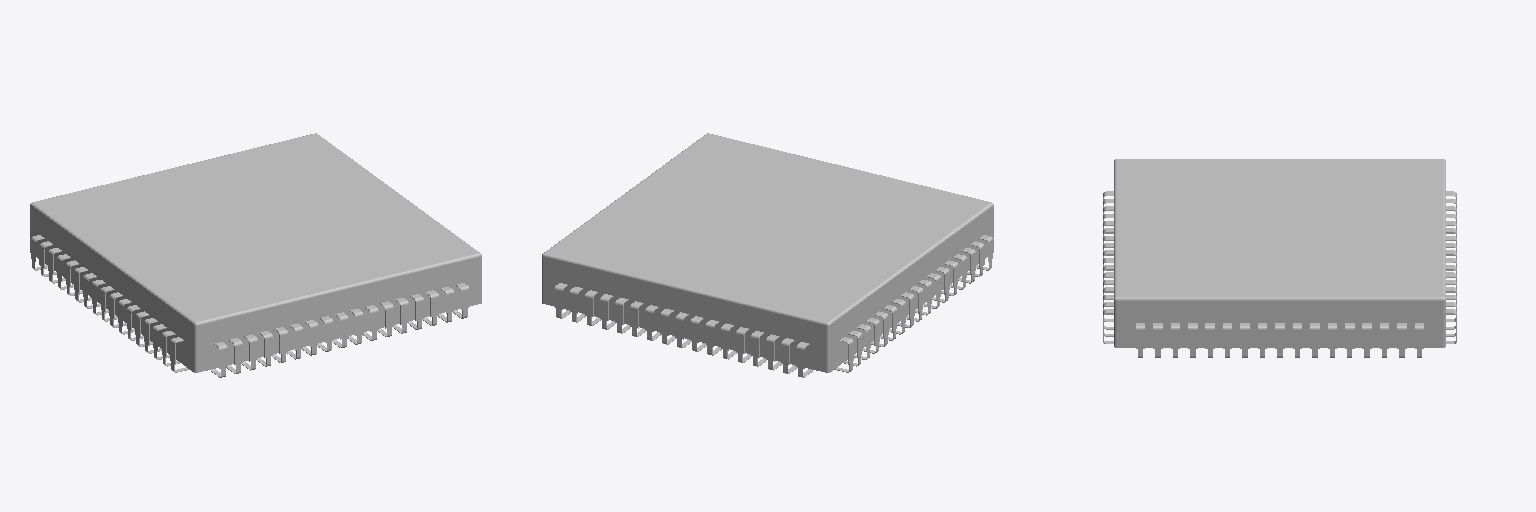
Rendered from bigflat.obj.
3 views of the same model, side by side, from view 1: azimuth 30°, elevation 25°; view 2: azimuth 150°, elevation 25°; view 3: azimuth 270°, elevation 25° (orthographic).
Parts seen in each view (by area): view 1: Object.1; view 2: Object.1; view 3: Object.1.
Part boxes in pixels (bbox=[...]): Object.1: bbox=[30, 133, 481, 377]; Object.1: bbox=[542, 133, 993, 377]; Object.1: bbox=[1103, 159, 1456, 357].
Bounding box in the file's own units: 25.75 × 4.53 × 25.75.